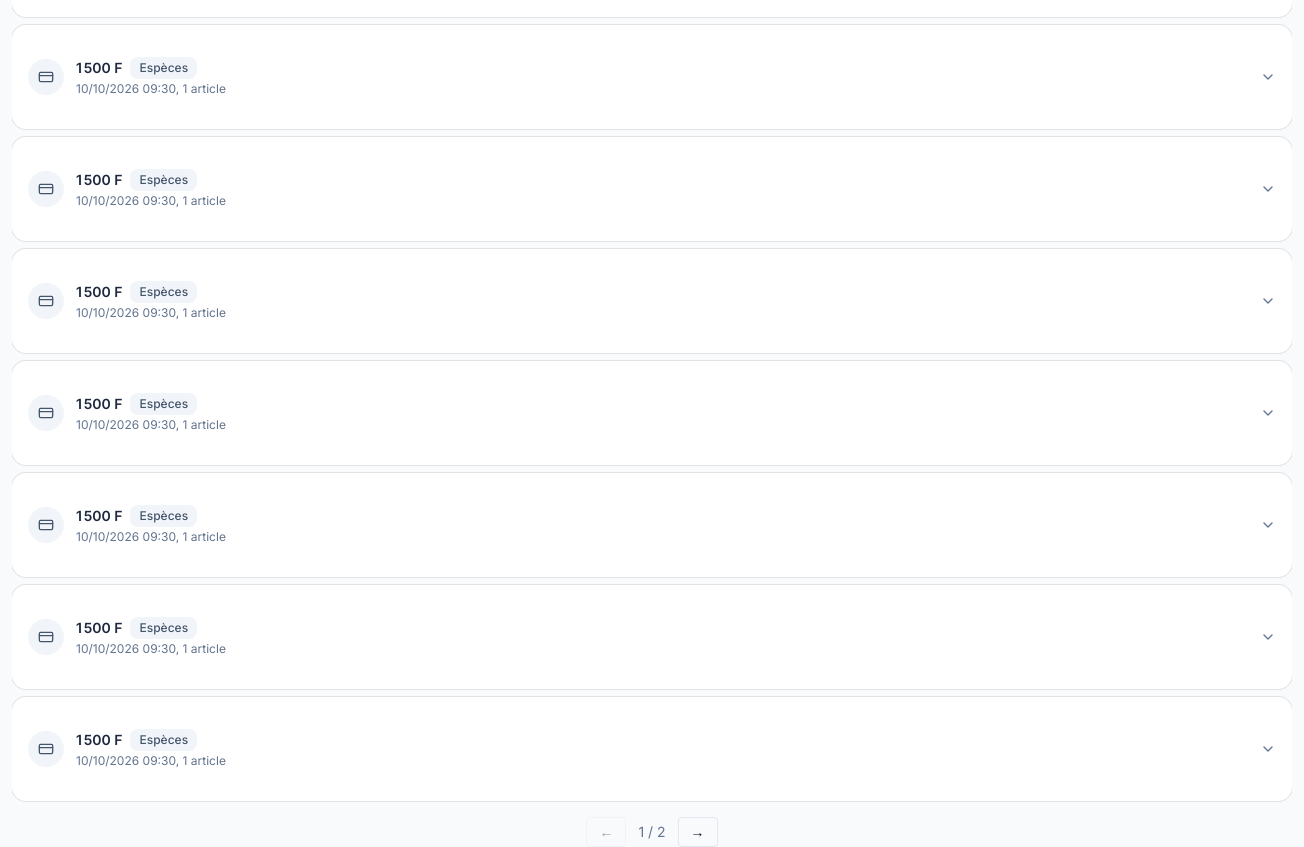
Test: SalesHistory — pagination › pagine au-delà de vingt ventes
(page scrolled)
Check: the text "1 / 2" is shown, box [638,822,666,842]
Click the button named "Page suivante" at [698, 832], box [678,817,718,846]
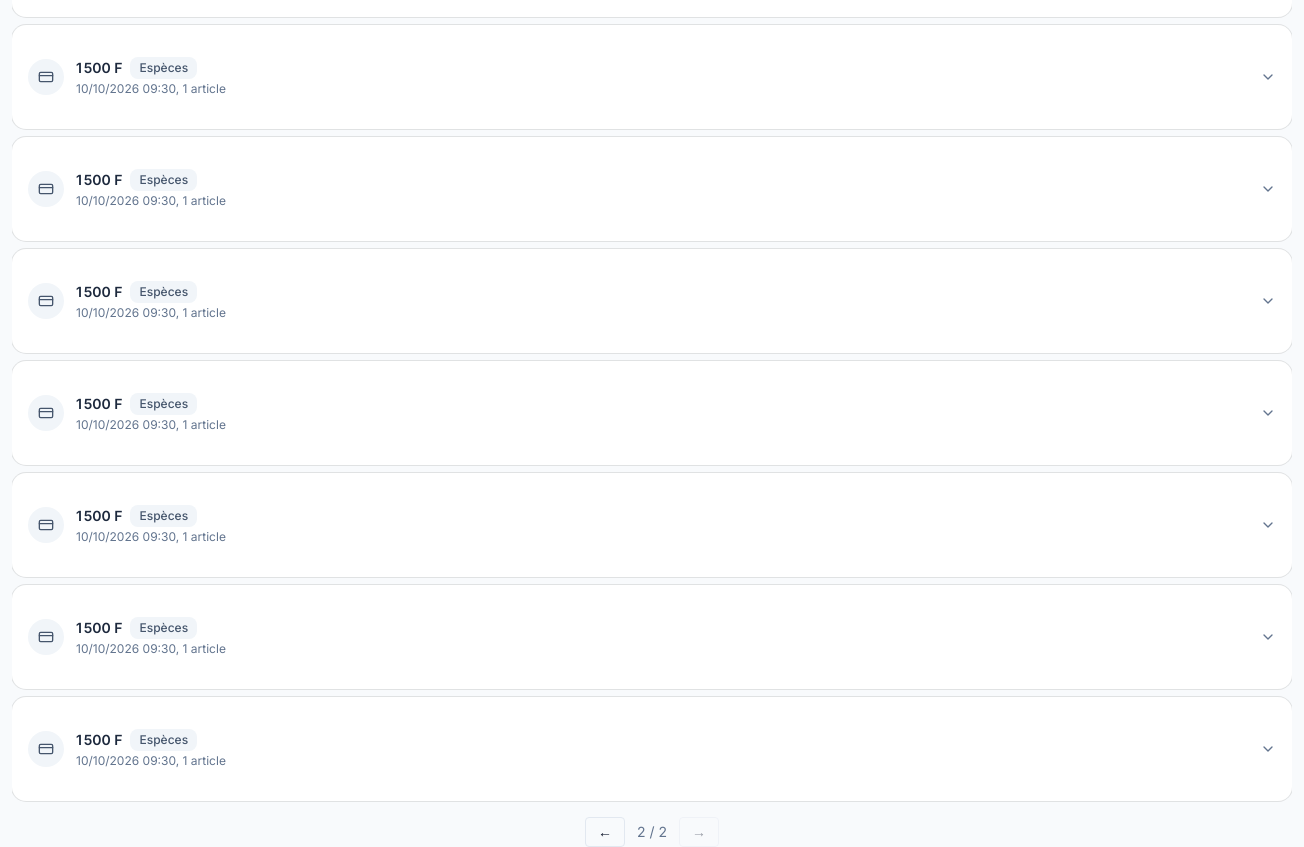
Check: the text "2 / 2" is shown, box [637,822,667,842]
